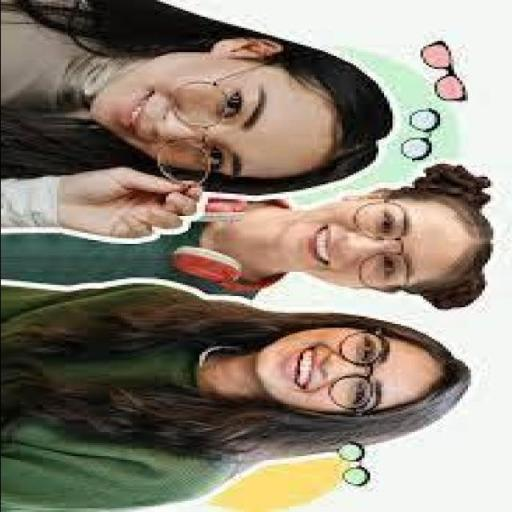glasses: (145, 74, 249, 194), (338, 191, 434, 299), (320, 328, 399, 412)
